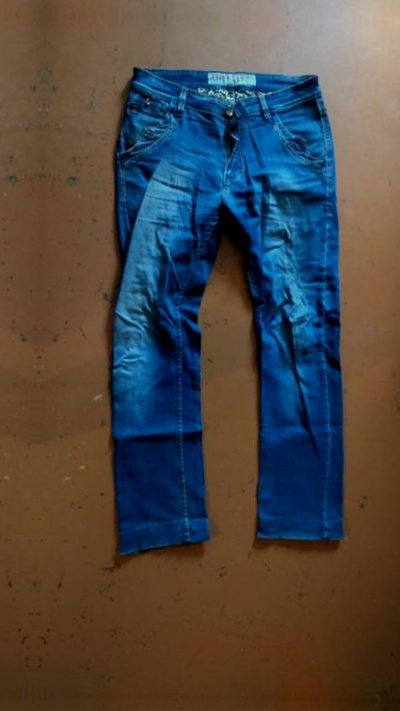Pants: (82, 48, 384, 589)
